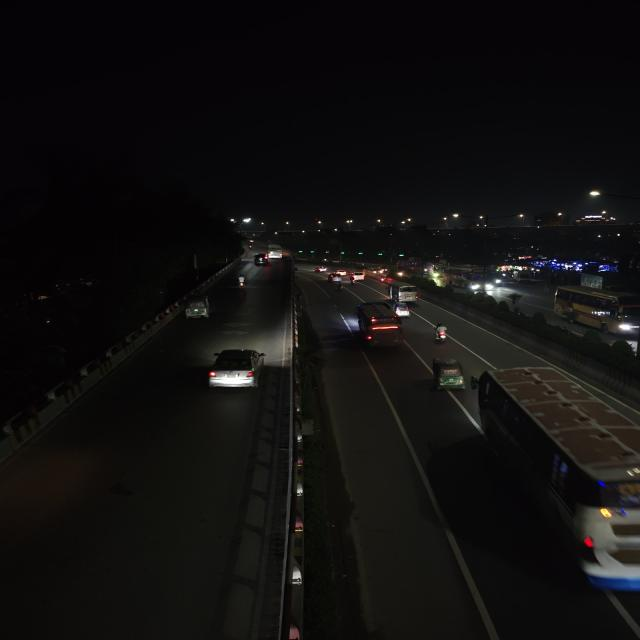bus: (474, 364, 640, 600), (549, 285, 640, 339), (353, 299, 407, 351), (444, 267, 497, 294), (387, 282, 420, 304), (266, 245, 284, 261)
car: (204, 348, 267, 393), (350, 271, 366, 283), (254, 254, 269, 266), (329, 273, 345, 283), (314, 266, 328, 275)
cng: (430, 354, 468, 394), (182, 294, 214, 322), (394, 302, 414, 318)
motorcycle: (429, 321, 454, 347), (232, 273, 248, 289)
truck: (580, 271, 626, 291), (513, 268, 536, 284)
